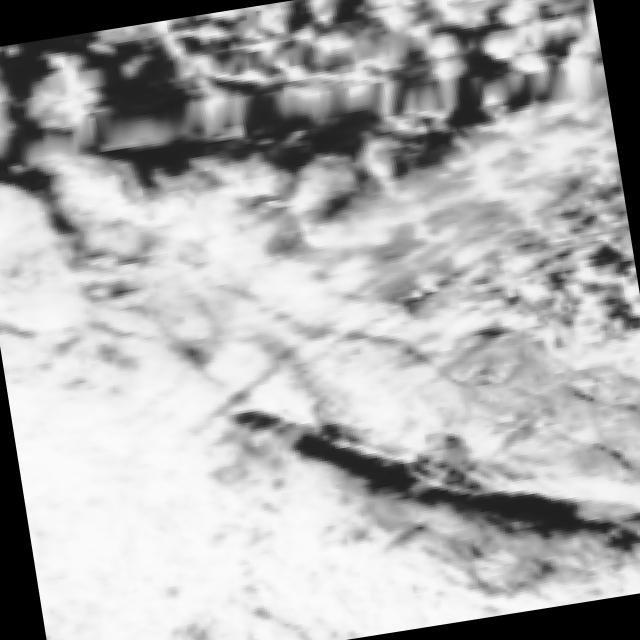CB: (12, 396, 213, 630)
